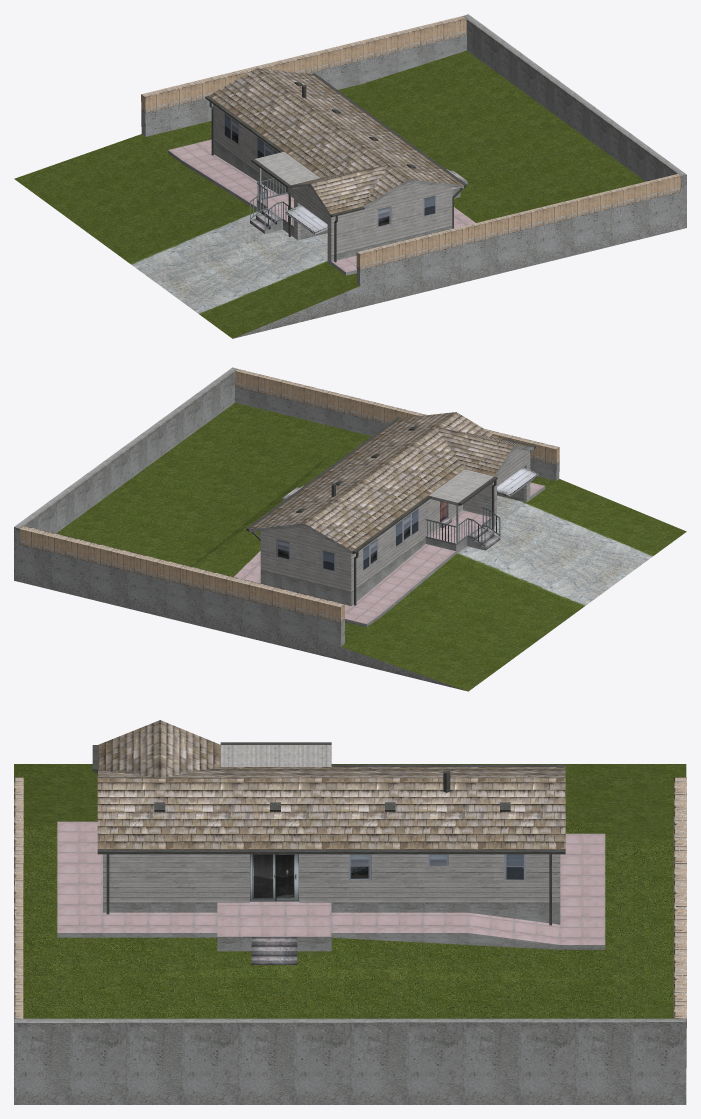
Rendered from swburbhaus04.obj.
3 renders of one model, top to bottom at view 1: azimuth 30°, elevation 25°; view 2: azimuth 150°, elevation 25°; view 3: azimuth 270°, elevation 25°, orthographic. The views are drawn at different scales.
Parts seen in each view (by area): view 1: swburbhaus04; view 2: swburbhaus04; view 3: swburbhaus04.
Part boxes in pixels (box(x1,y1,x2,y2)): swburbhaus04: box(14, 14, 686, 338); swburbhaus04: box(14, 367, 686, 691); swburbhaus04: box(14, 720, 686, 1104).
Size of the model in its own units: 30 by 6.21 by 25.02.
14 materials, 14 textured.
